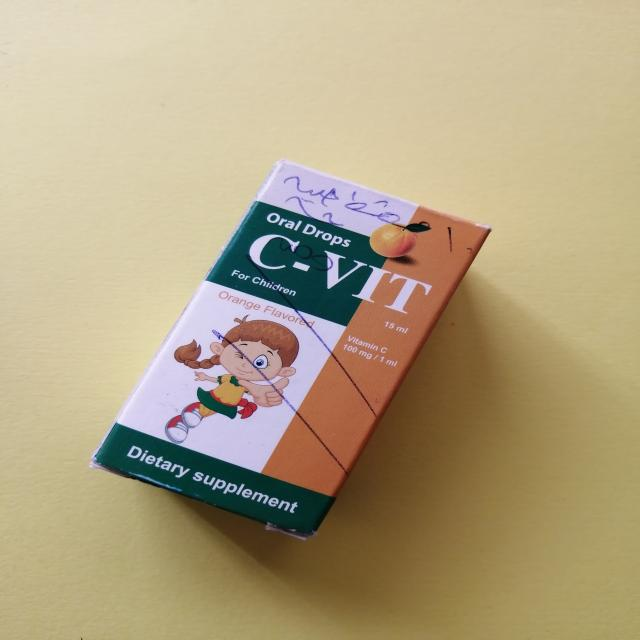C-VIT: (82, 161, 494, 558)
